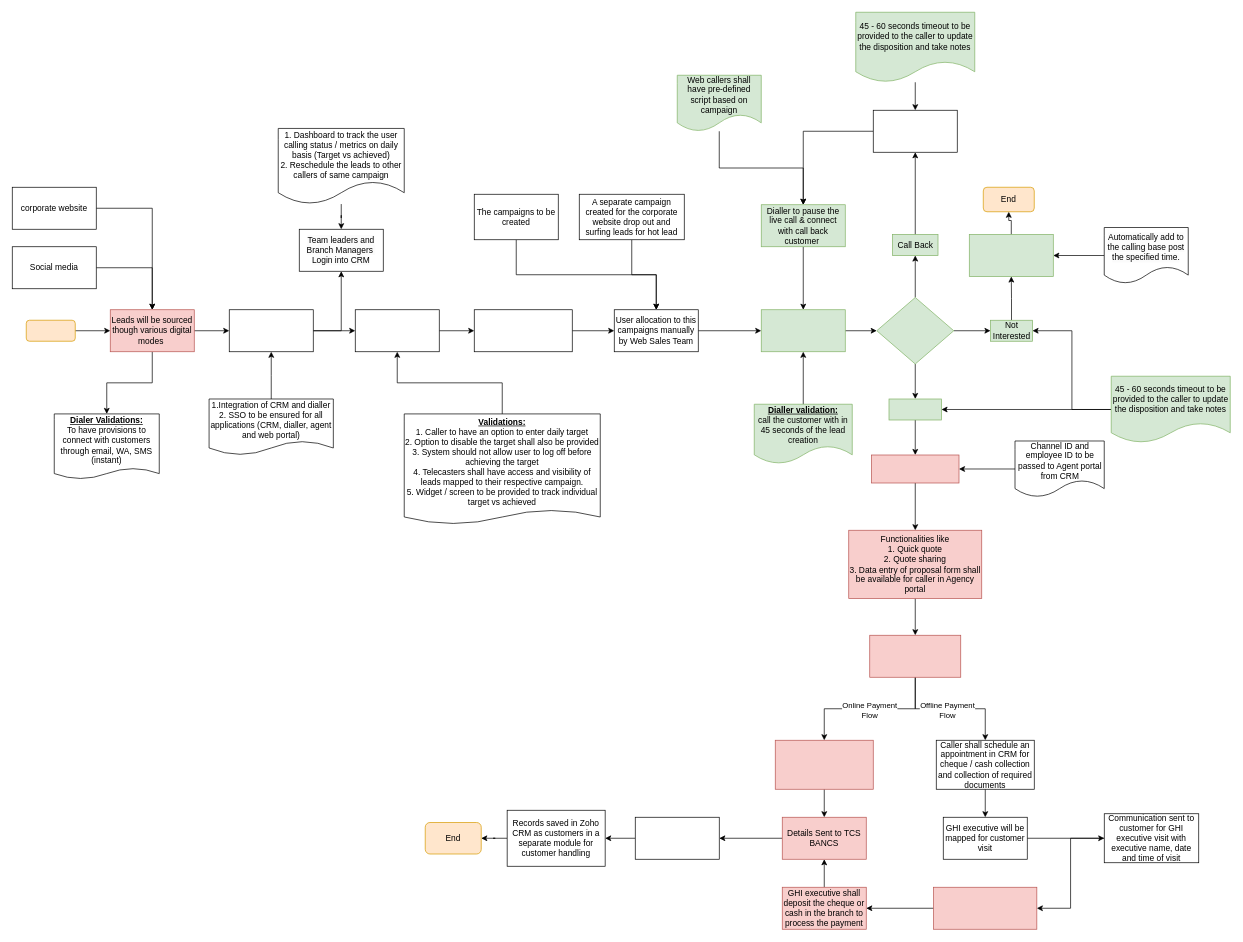
This 1243x942 diagram has some shape labels left out. The shapes that lost their labels are listed below. From the top down, each one's box as (x1, y1, x2, y2) in pixels, then its label:
(873, 110, 957, 152): Update the disposition in CRM with call back time
(969, 234, 1053, 276): Remove the customer from the calling base for a specified period of time.
(26, 320, 75, 341): Start
(229, 309, 313, 352): Login into CRM & Dialler (SSO)
(355, 309, 439, 352): Web Sales Login into CRM
(474, 309, 572, 352): Tagged to the Zonal Manager and classified on the basis of city and pin code
(761, 309, 845, 352): Web Sales Team Makes call
(876, 297, 954, 364): Customer Decision
(888, 398, 941, 420): Inte rested
(871, 454, 959, 483): Process the case in agency portal
(869, 635, 961, 677): Required data sent to customers and processed in Agency portal
(775, 740, 873, 789): Customer makes online Payment in Agency portal through payment gateway
(635, 817, 719, 859): Policy details sent to CRM
(933, 887, 1037, 929): GHI executive processes the case in the agent portal in presence of the customer
